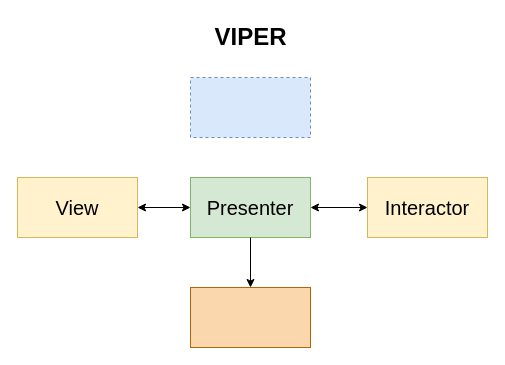
This 505x365 diagram has some shape labels left out. Here are the shapes that lost their labels. From the top down, the box of each, then its label:
(190, 76, 310, 138): Assembly
(190, 286, 310, 348): Router
